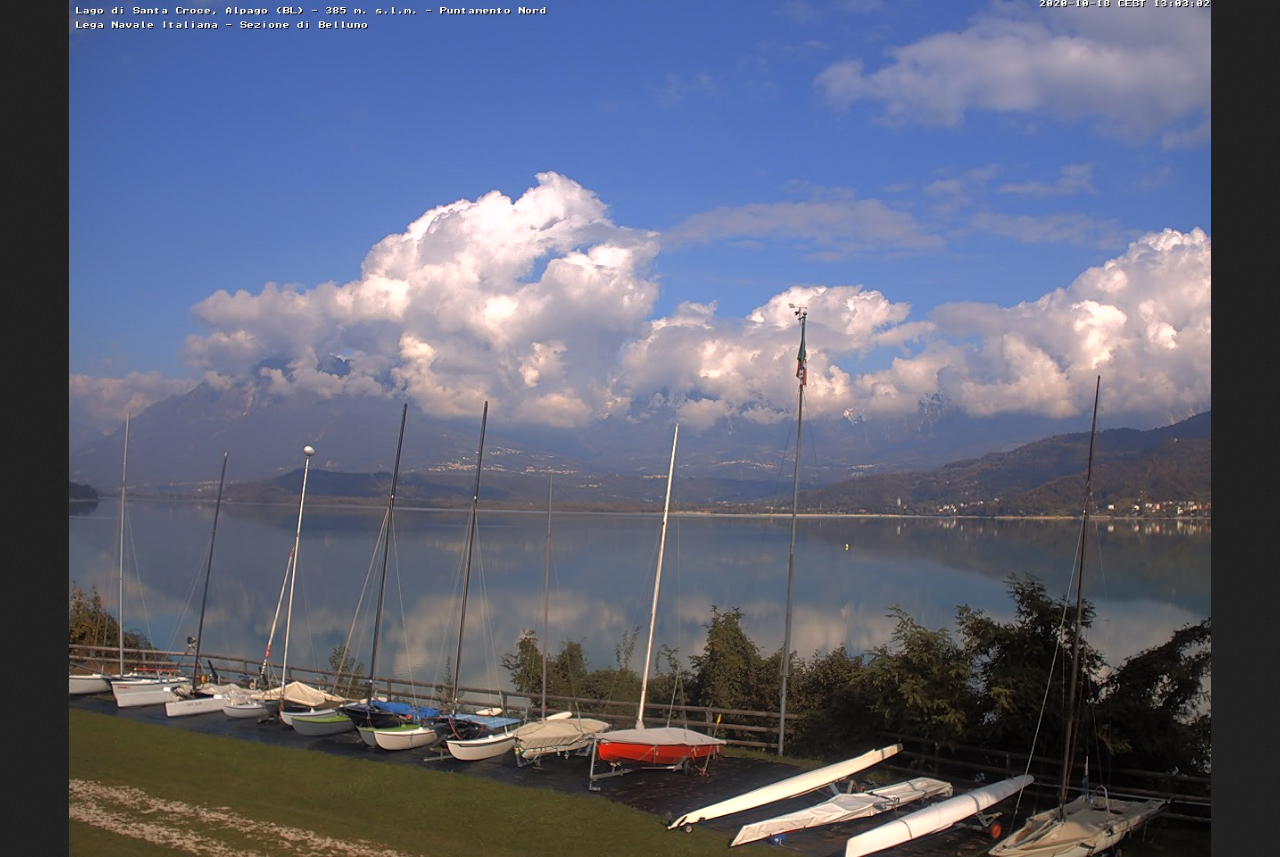no: (788, 301, 819, 396)
